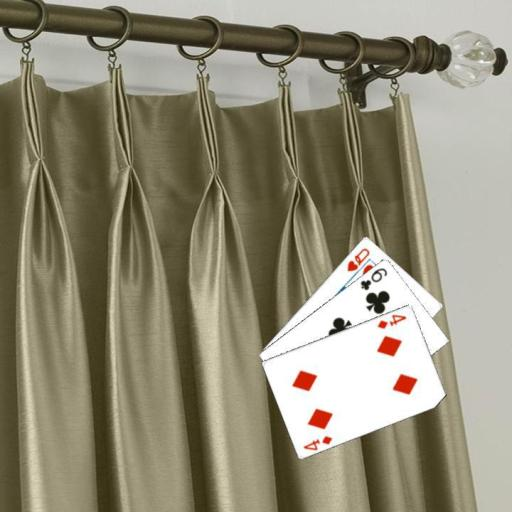4D: (374, 311, 408, 330), (300, 433, 334, 452)
6C: (357, 265, 389, 292)
QH: (344, 245, 371, 272)
